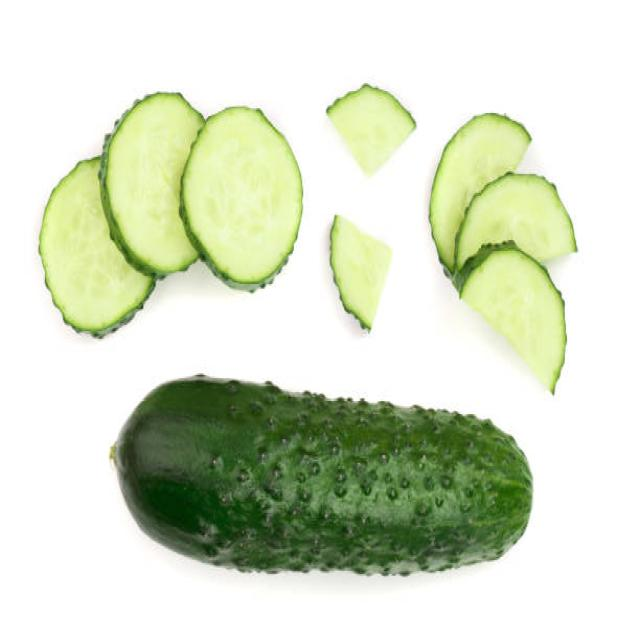cucumber: (118, 370, 534, 576)
